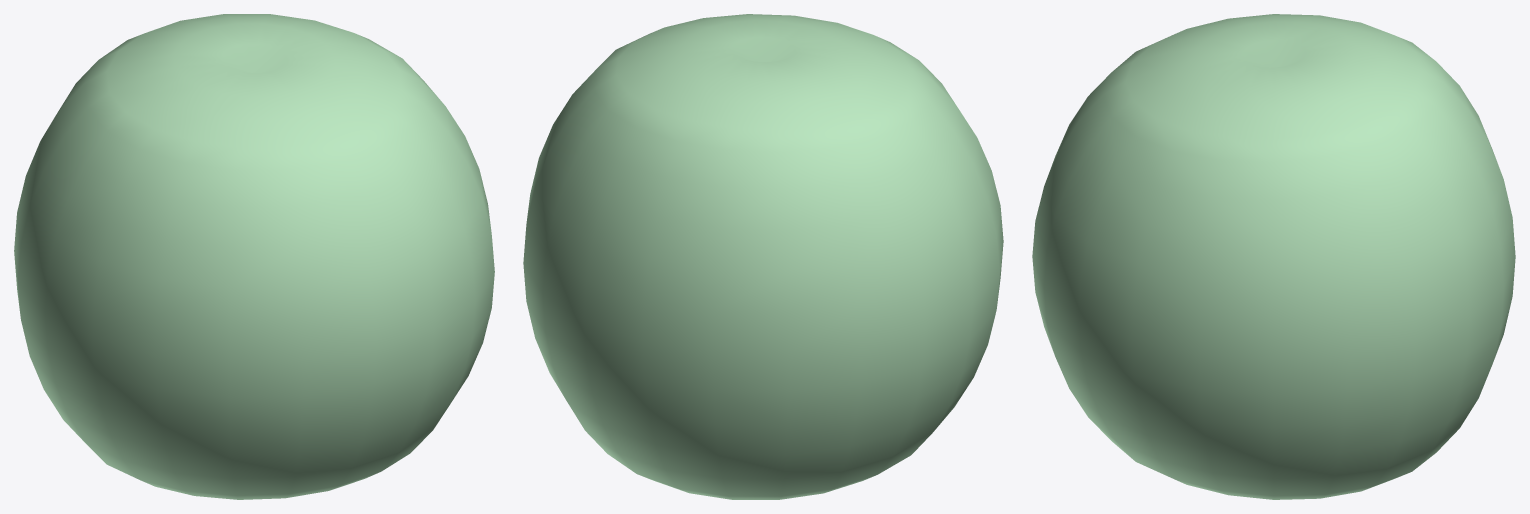
The model's file is honeydew-0.glb.
3 views of the same model, side by side, from view 1: azimuth 30°, elevation 25°; view 2: azimuth 150°, elevation 25°; view 3: azimuth 270°, elevation 25° (orthographic).
Parts seen in each view (by area): view 1: Fruitbowl1:pSphere1_lambert2_0; view 2: Fruitbowl1:pSphere1_lambert2_0; view 3: Fruitbowl1:pSphere1_lambert2_0.
Boxes of the visible parts, x1=… form: Fruitbowl1:pSphere1_lambert2_0: x1=14, y1=14, x2=494, y2=499; Fruitbowl1:pSphere1_lambert2_0: x1=523, y1=14, x2=1003, y2=499; Fruitbowl1:pSphere1_lambert2_0: x1=1032, y1=14, x2=1515, y2=499.
Size of the model in its own units: 1.32 by 1.23 by 1.32.
